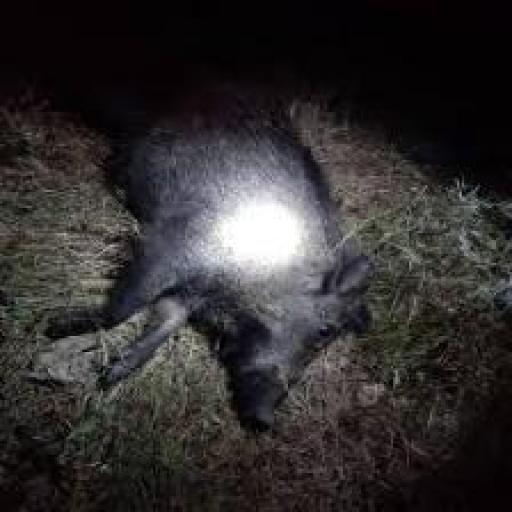Pig: (25, 0, 389, 453)
